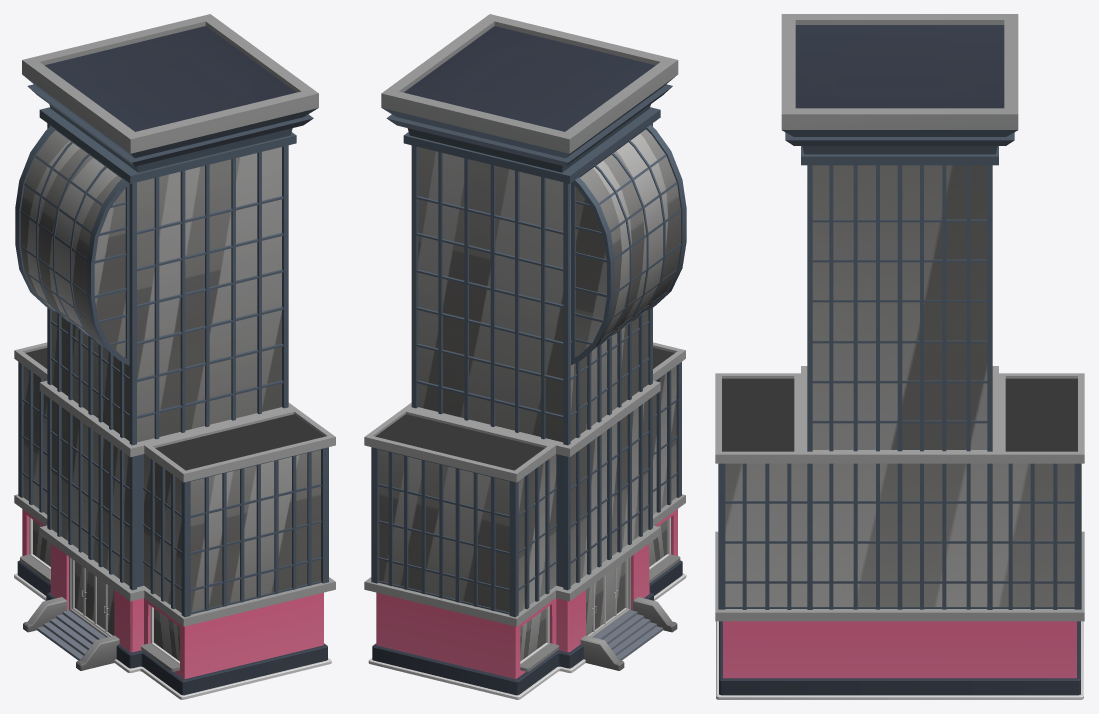
The model's file is Building_15_H.glb.
3 views of the same model, side by side, from view 1: azimuth 30°, elevation 25°; view 2: azimuth 150°, elevation 25°; view 3: azimuth 270°, elevation 25° (orthographic). The views are drawn at different scales.
Visible parts, largest first — view 1: Building_15_H; view 2: Building_15_H; view 3: Building_15_H.
Part boxes in pixels (x1,y1,x2,y2): Building_15_H: [14, 14, 335, 699]; Building_15_H: [364, 14, 686, 699]; Building_15_H: [715, 14, 1084, 699].
Size of the model in its own units: 8.6 by 21 by 11.83.
Materials: 4 (4 with a texture image).
